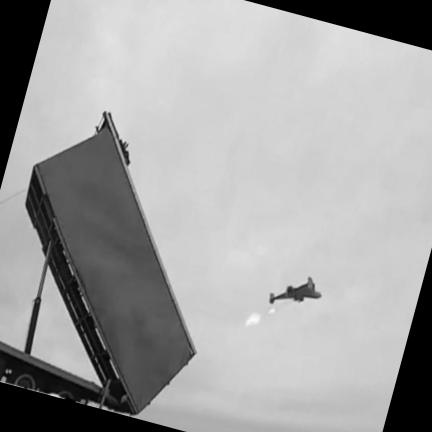Shahed: (269, 277, 320, 303)
